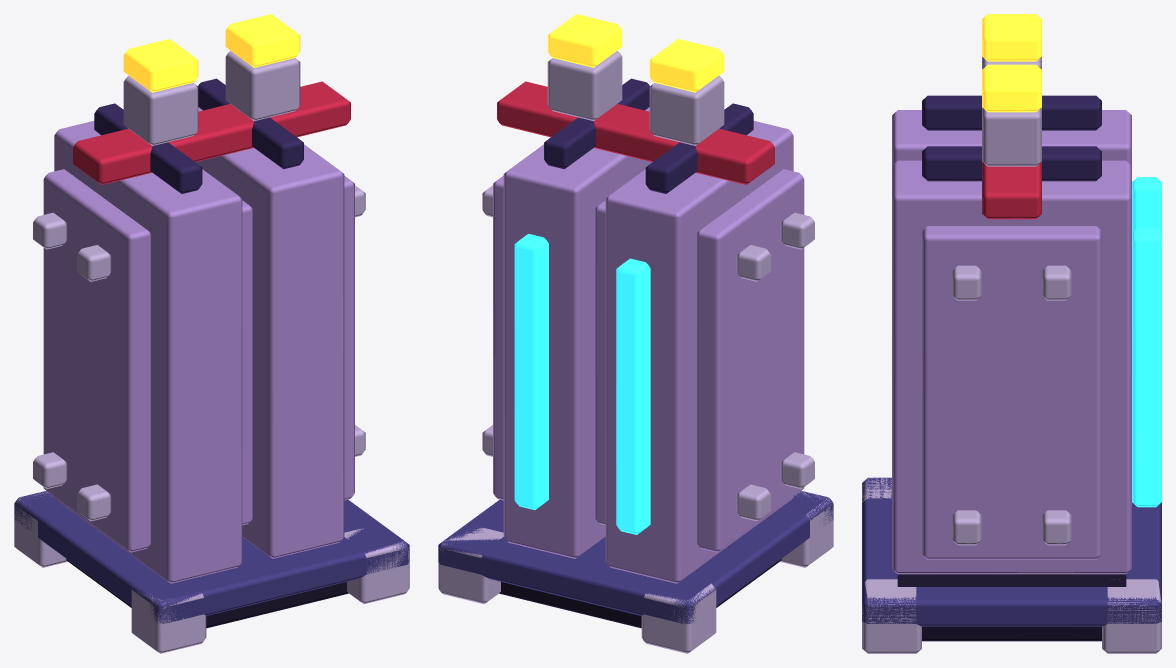
The model's file is battery.sm.glb.
3 renders of one model, left to right at view 1: azimuth 30°, elevation 25°; view 2: azimuth 150°, elevation 25°; view 3: azimuth 270°, elevation 25°, orthographic. The views are drawn at different scales.
Parts seen in each view (by area): view 1: battery.sm; view 2: battery.sm; view 3: battery.sm.
Boxes of the visible parts, left/top/right/bottom form: battery.sm: left=14, top=14, right=409, bottom=653; battery.sm: left=438, top=14, right=833, bottom=653; battery.sm: left=862, top=14, right=1161, bottom=653.
Bounding box in the file's own units: 0.6875 × 1.25 × 0.625.
